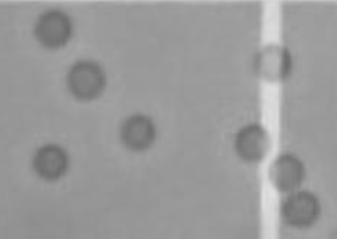cell: (59, 53, 113, 105), (246, 38, 297, 87), (227, 118, 276, 168), (31, 5, 77, 54), (264, 151, 311, 198), (28, 137, 73, 186), (278, 185, 325, 231), (115, 109, 161, 153)
